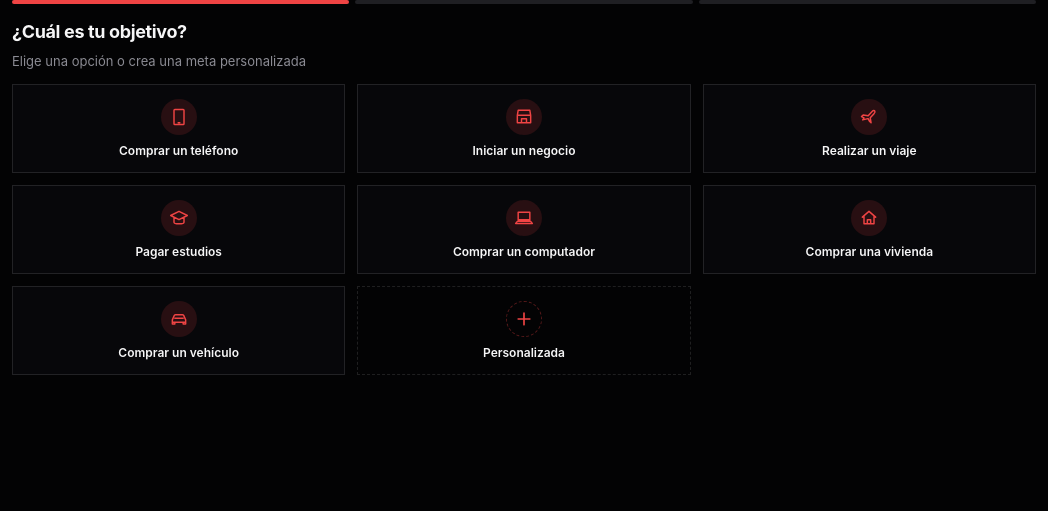
Test case: CreateGoalWizard › elegir una plantilla avanza al paso 2 y precarga el titulo
Click the button with class "type-tile" showing "Comprar un computador": (524, 229) [357,185,691,274]
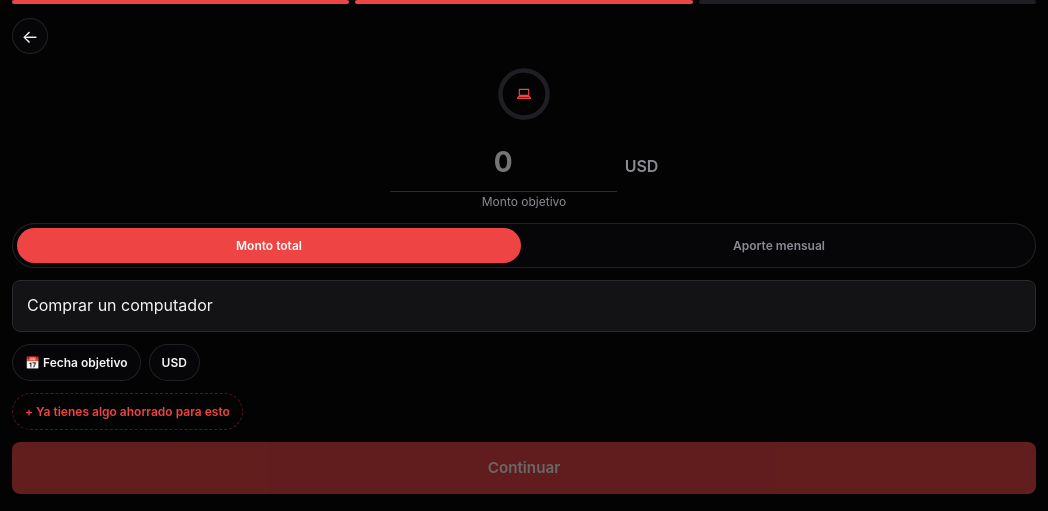
Now the field with class "wizard-title-input" holds "Comprar un computador", box [12,280,1036,332]
